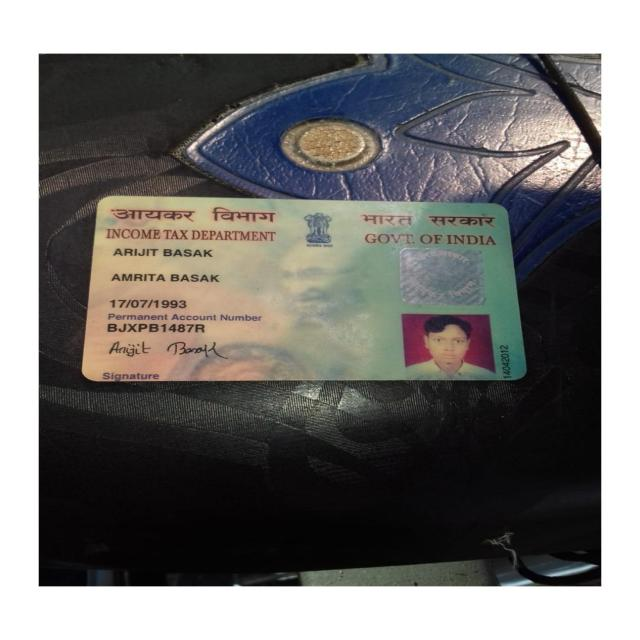pan_card: (85, 201, 523, 386)
